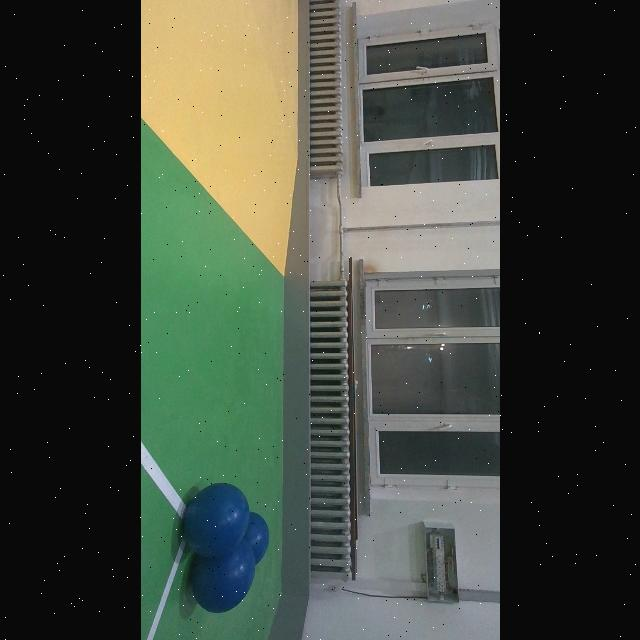B: (180, 545, 256, 621), (182, 483, 250, 557), (226, 506, 272, 570)
